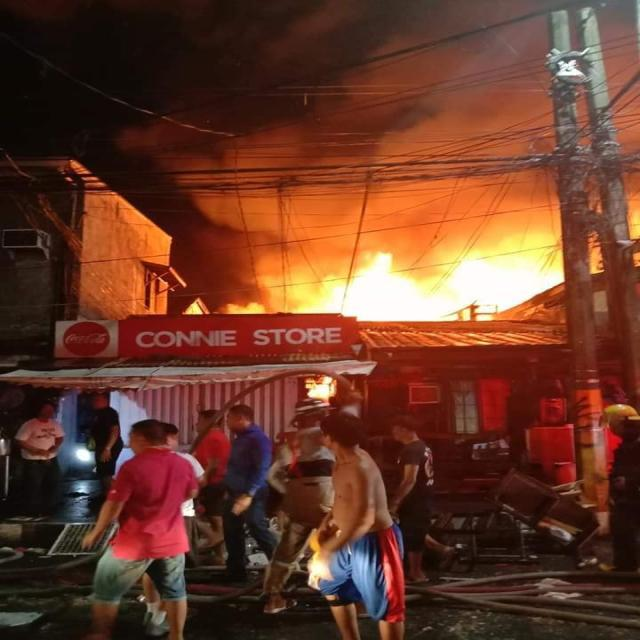Fire: (359, 254, 553, 322)
Smoke: (182, 113, 558, 292)
